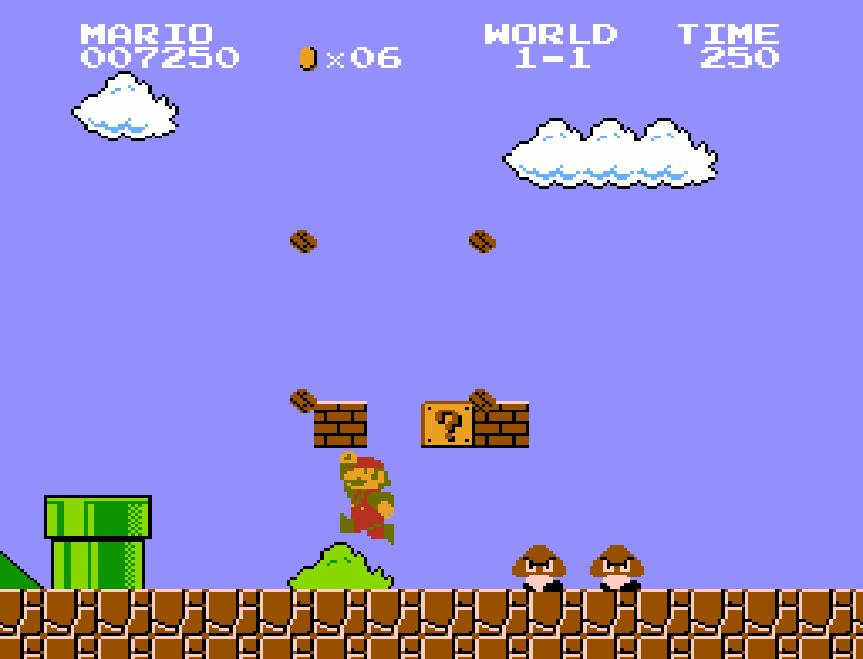big_mario: (338, 449, 396, 547)
